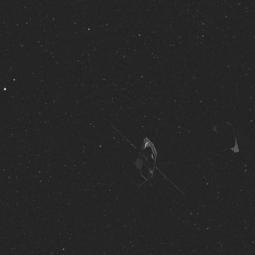xmm_newton: (77, 110, 198, 194)
